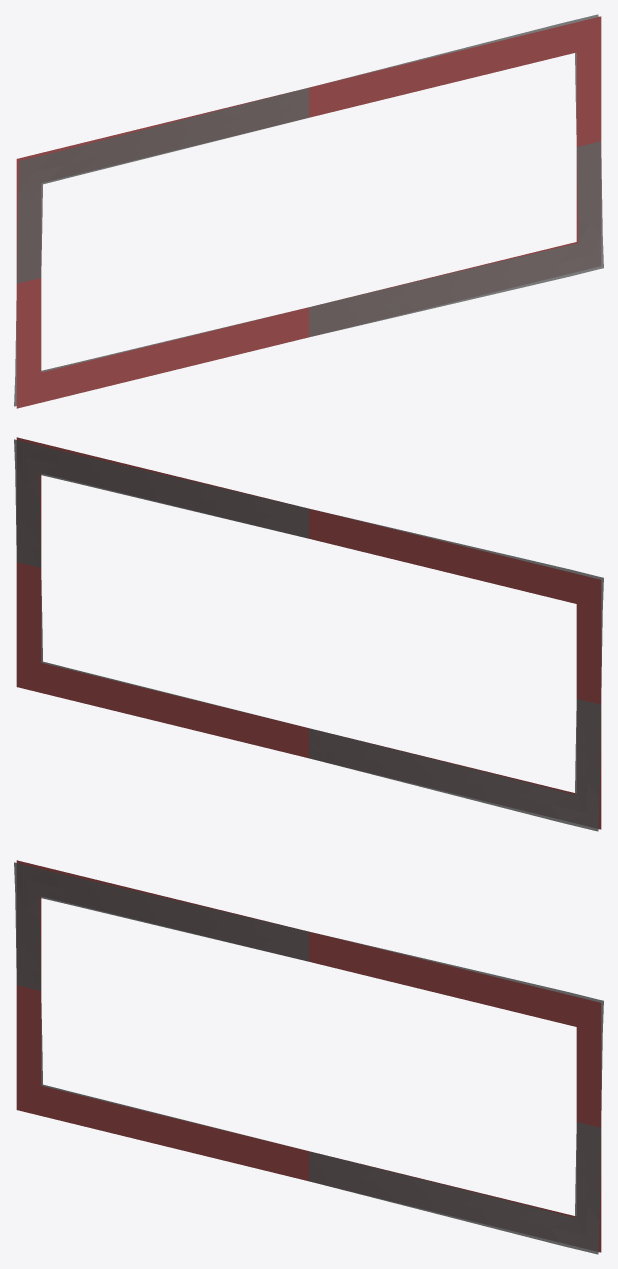
File: warping-box-78-191-9-8-216.glb
3 views of the same model, one above another, from view 1: azimuth 30°, elevation 25°; view 2: azimuth 150°, elevation 25°; view 3: azimuth 330°, elevation 25° (orthographic).
Parts seen in each view (by area): view 1: undeformed cross-section, cross-section with warping; view 2: undeformed cross-section, cross-section with warping; view 3: undeformed cross-section, cross-section with warping.
Part boxes in pixels (bbox=[...]): undeformed cross-section: bbox=[16, 16, 601, 408]; cross-section with warping: bbox=[14, 14, 603, 406]; undeformed cross-section: bbox=[16, 437, 601, 829]; cross-section with warping: bbox=[14, 439, 603, 831]; undeformed cross-section: bbox=[16, 860, 601, 1252]; cross-section with warping: bbox=[14, 862, 603, 1254].
Size of the model in its own units: 0.191 by 0.078 by 0.00329.
